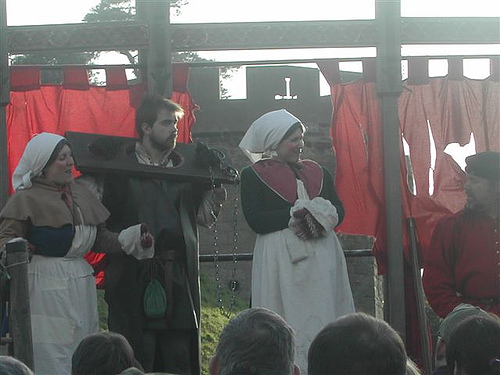without_mask: (32, 138, 81, 187), (457, 164, 500, 218), (140, 105, 185, 155), (269, 124, 309, 167)
